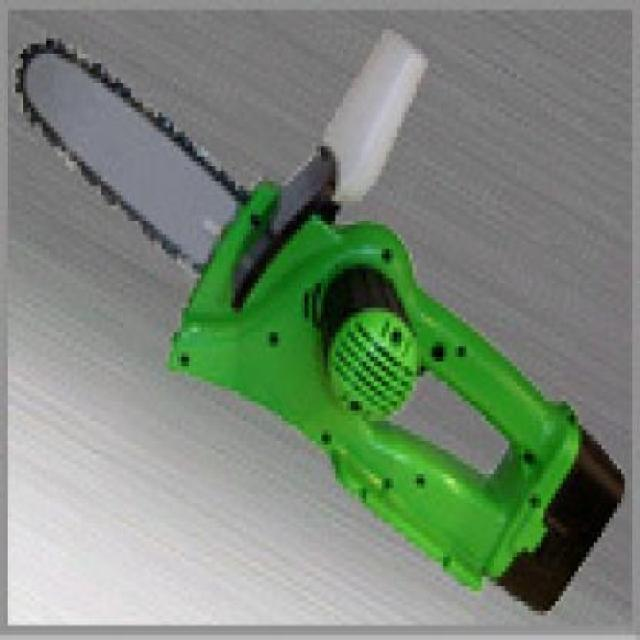Chainsaw: (3, 2, 634, 629)
